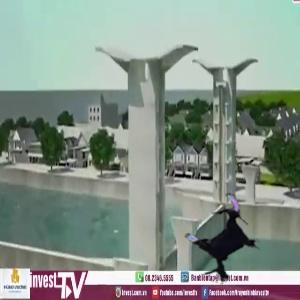drone: (173, 191, 271, 289)
